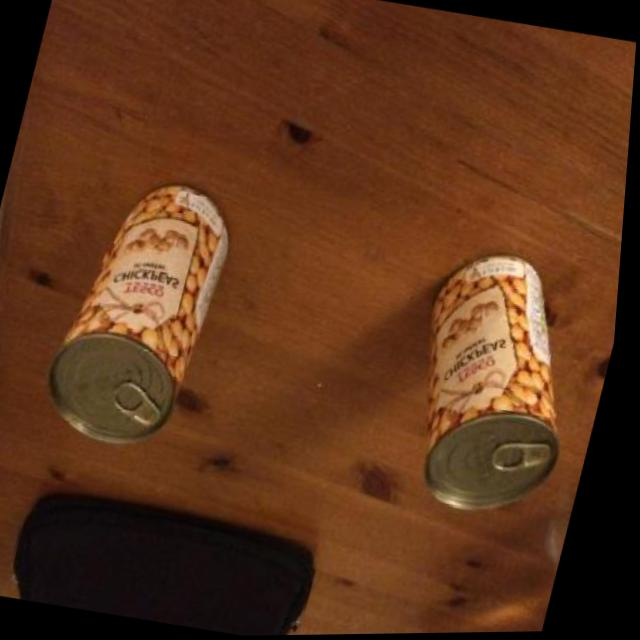metal: (381, 239, 608, 528), (28, 167, 247, 460)
